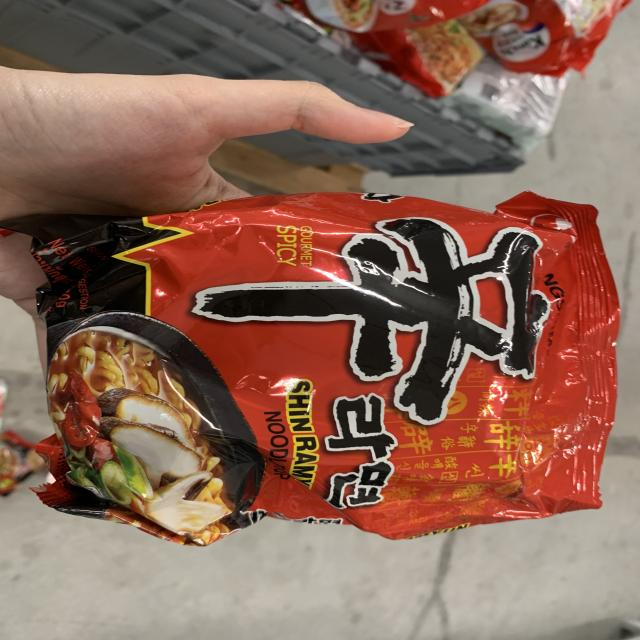object_name: (39, 207, 614, 524)
